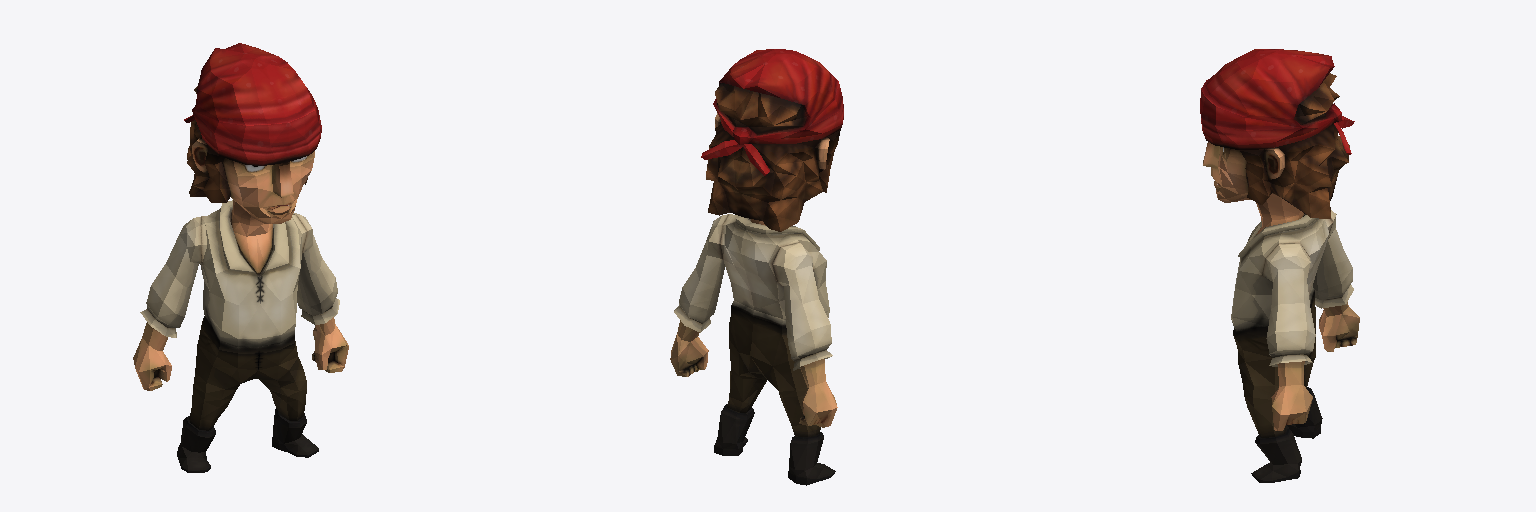
3 renders of one model, left to right at view 1: azimuth 30°, elevation 25°; view 2: azimuth 150°, elevation 25°; view 3: azimuth 270°, elevation 25°, orthographic.
Parts seen in each view (by area): view 1: PVP_FirstMate; view 2: PVP_FirstMate; view 3: PVP_FirstMate.
Boxes of the visible parts, x1=… form: PVP_FirstMate: x1=133, y1=43, x2=348, y2=472; PVP_FirstMate: x1=670, y1=49, x2=843, y2=485; PVP_FirstMate: x1=1200, y1=49, x2=1359, y2=482.
Size of the model in its own units: 1.85 by 3.78 by 1.37.
Materials: 1 (1 with a texture image).